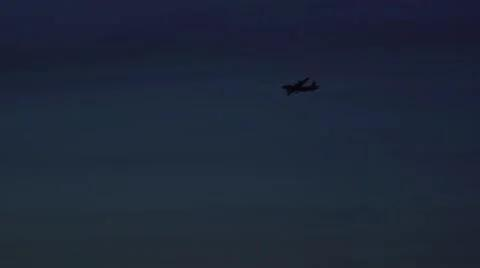Plane: (263, 68, 337, 104)
